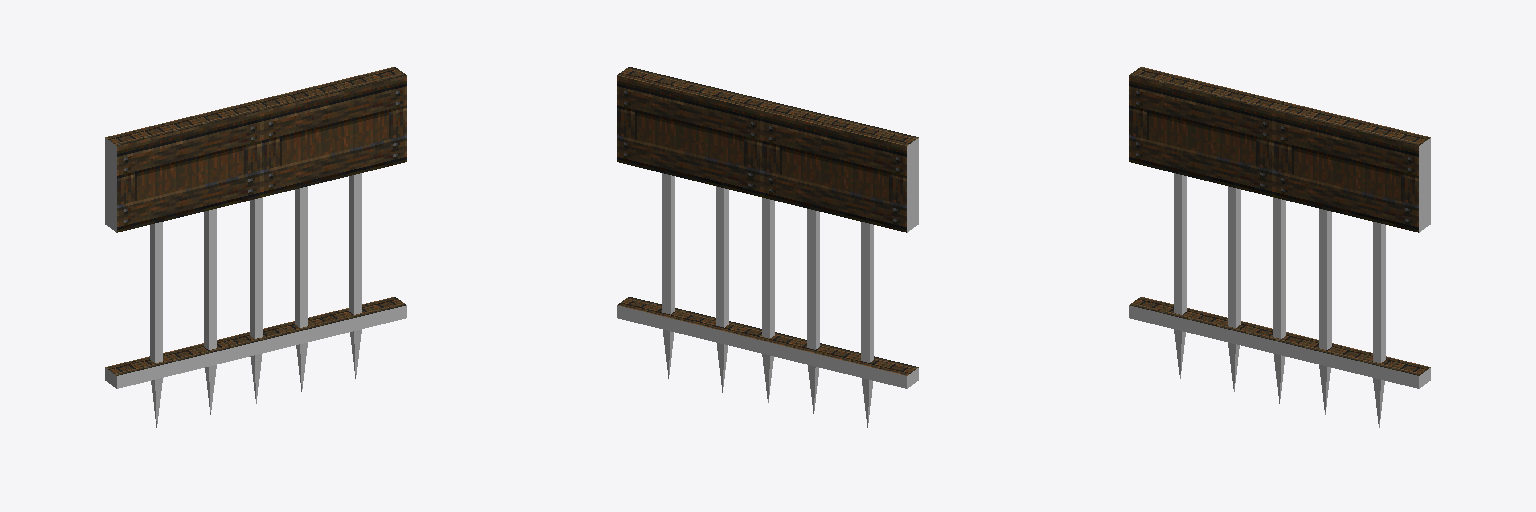
3 views of the same model, side by side, from view 1: azimuth 30°, elevation 25°; view 2: azimuth 150°, elevation 25°; view 3: azimuth 330°, elevation 25° (orthographic).
Visible parts, largest first — view 1: model60606-node_model60606; view 2: model60606-node_model60606; view 3: model60606-node_model60606.
Boxes of the visible parts, x1=… form: model60606-node_model60606: x1=105, y1=67, x2=406, y2=427; model60606-node_model60606: x1=617, y1=67, x2=918, y2=427; model60606-node_model60606: x1=1129, y1=67, x2=1430, y2=427.
Size of the model in its own units: 3.5 by 3.45 by 0.25.
Materials: 3 (2 with a texture image).